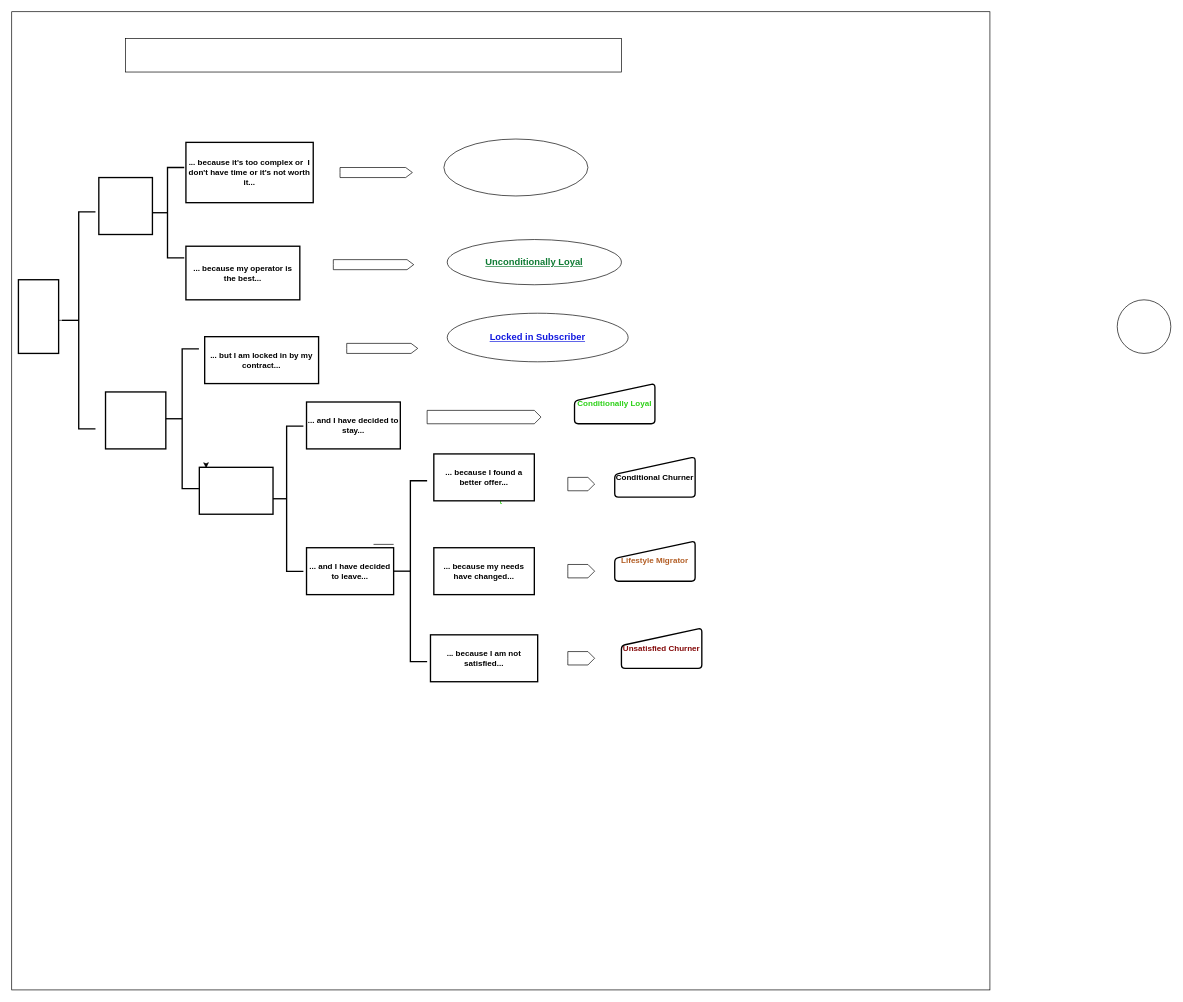
Some shapes in this 1183 by 1002 pixel diagram are drawn without their labels. The shapes that lost their labels are listed below. From the top down, each one's centre as x and y in pixels, then its label:
At point (373, 55): "Decision Cycle of A Telecom Subscriber & Churn Segmentation".
At point (515, 167): "Inert Subscriber".
At point (125, 206): "... I haven't thought about churning.....".
At point (38, 316): "ABC Telecom customer".
At point (135, 420): "... I have thought about churning ...".
At point (235, 490): "... and I am not locked in by my contract...".
